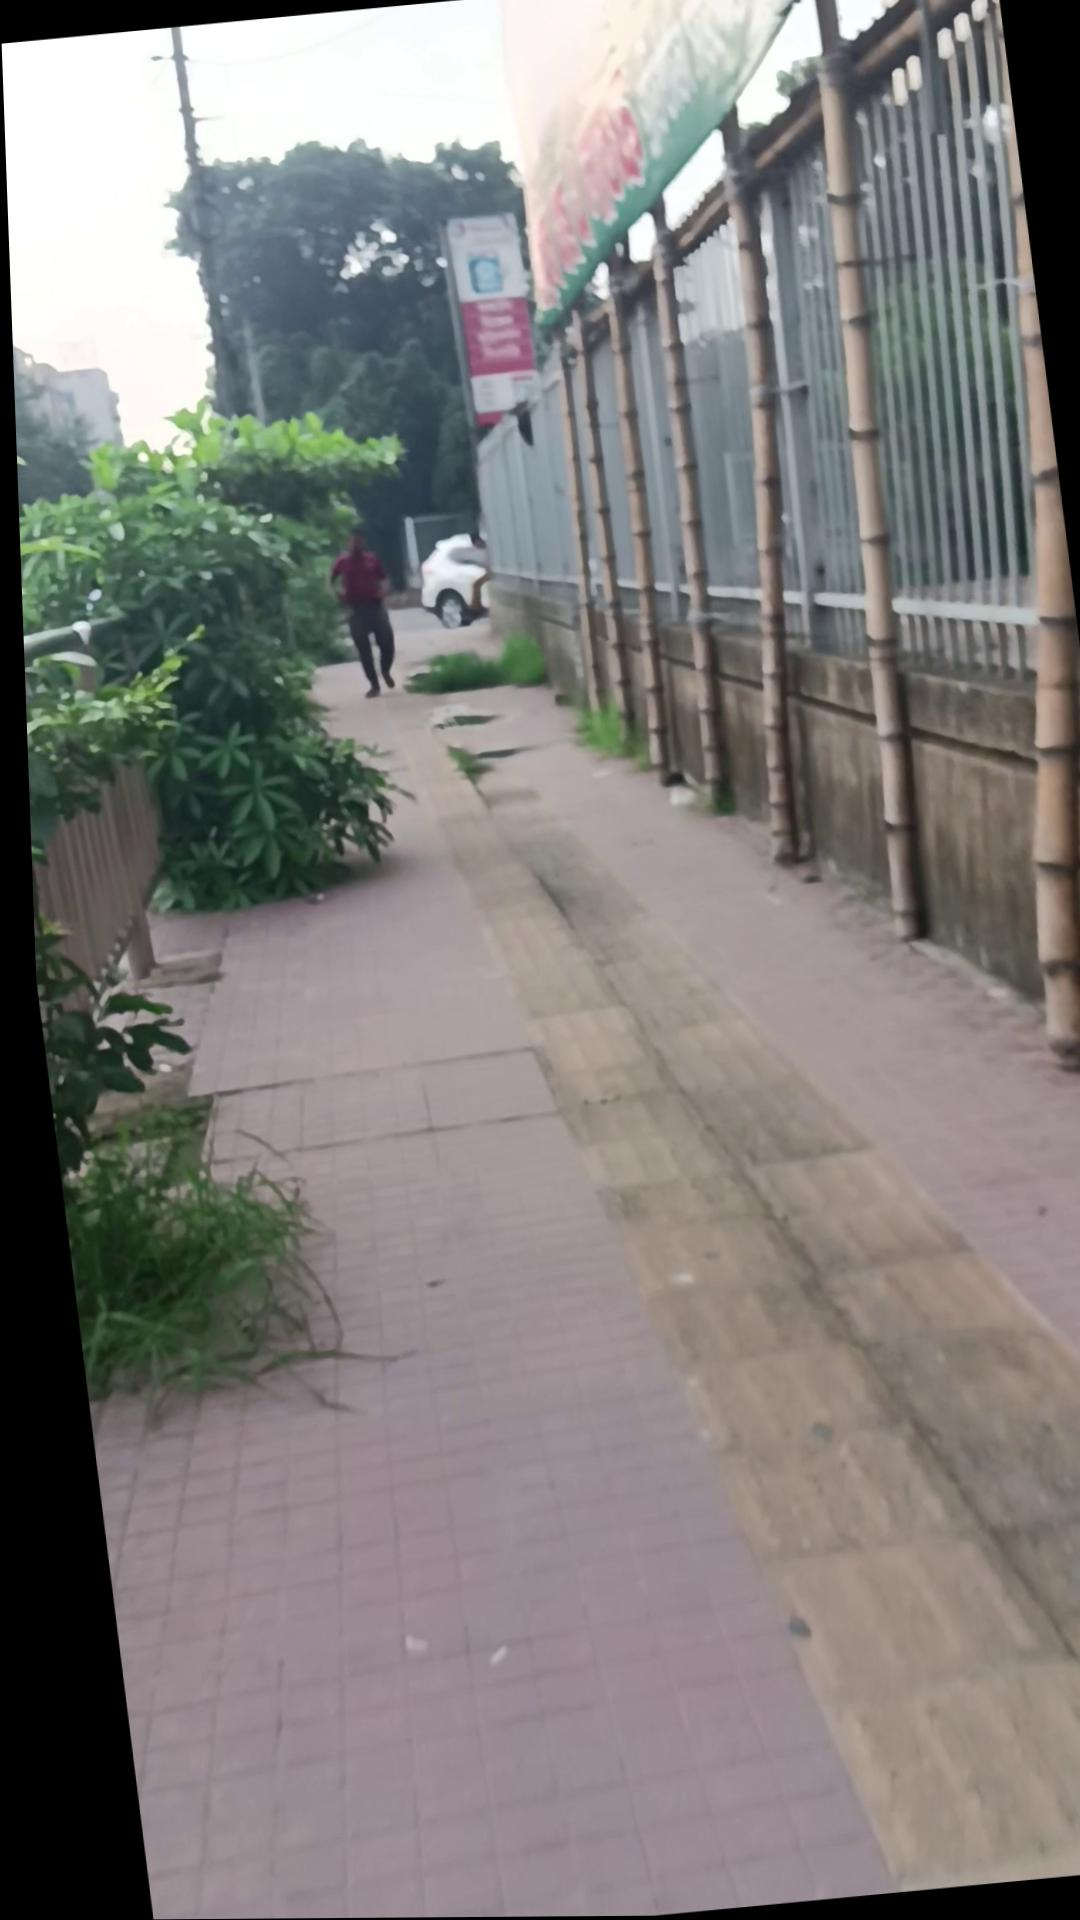Car: (407, 530, 492, 632)
Muddy road: (316, 524, 397, 700)
Obstacle: (913, 5, 1080, 1073), (771, 0, 952, 945), (675, 104, 833, 866), (628, 195, 740, 816), (585, 265, 679, 787)
Potted-plant: (16, 531, 1080, 1920)
Tree: (475, 518, 1080, 1117)
